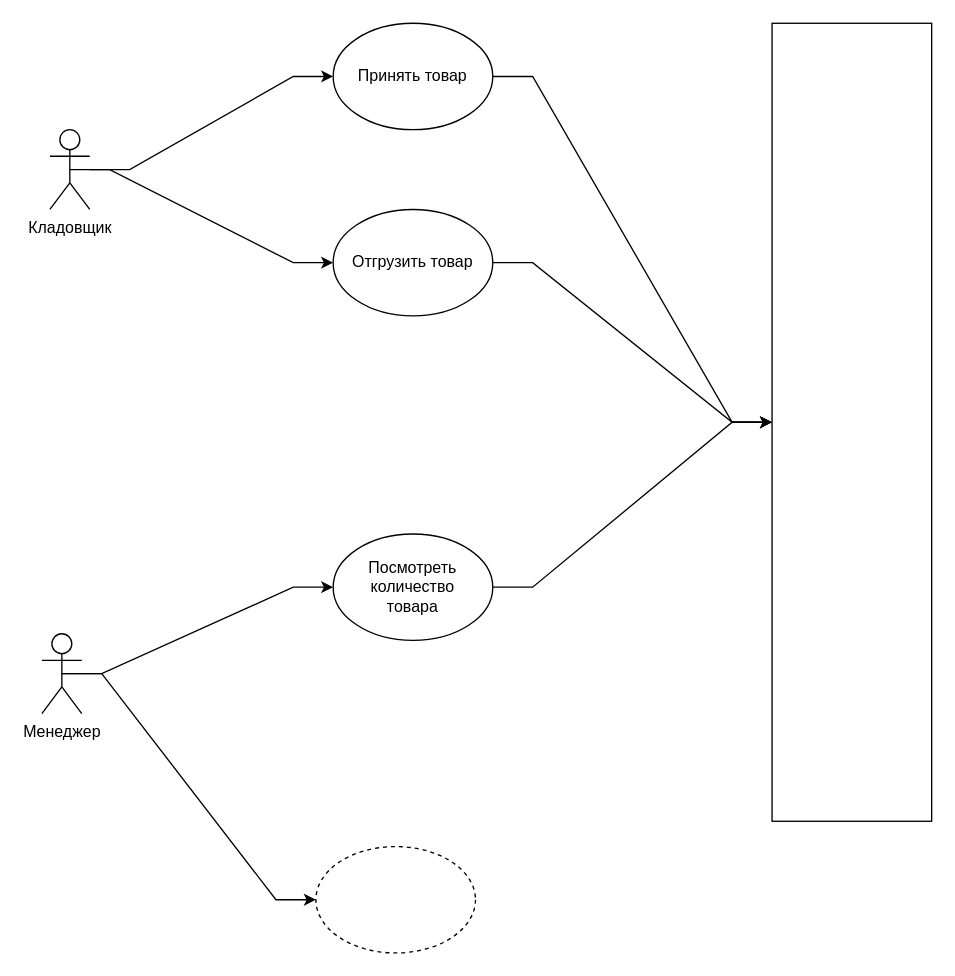
Image size: 955x976. Some labels were removed from this diagram. Each missing label, with the centre of its shape:
Заказать товар (сторонний сервис): point (395, 899)
Список товаров: point (851, 421)
